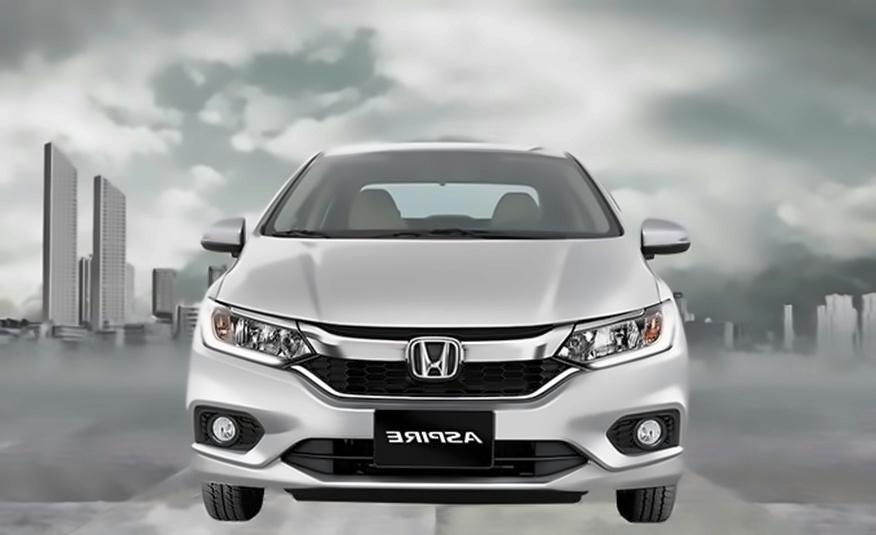Car hood: (212, 227, 665, 331)
Front bumper: (182, 357, 704, 503)
Headlight - -L-: (551, 292, 683, 371)
Headlight - -R-: (192, 287, 321, 374)
Side mirror - -L-: (630, 205, 700, 267)
Side mirror - -R-: (192, 205, 257, 262)
